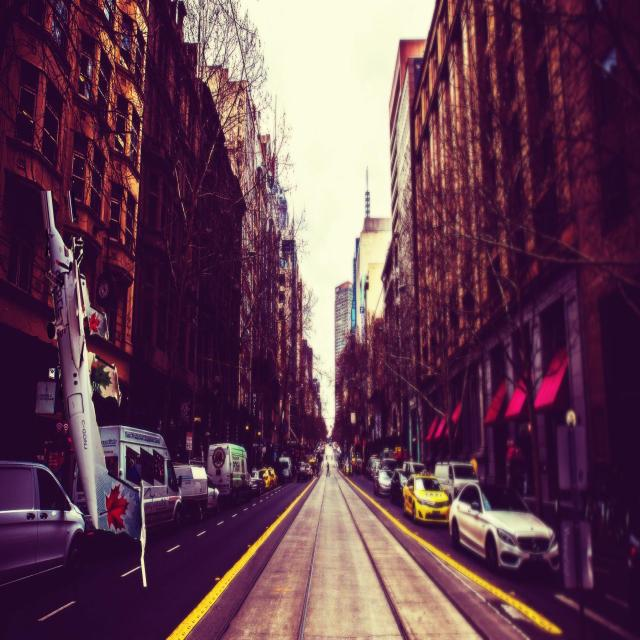airplane: (39, 185, 142, 537)
